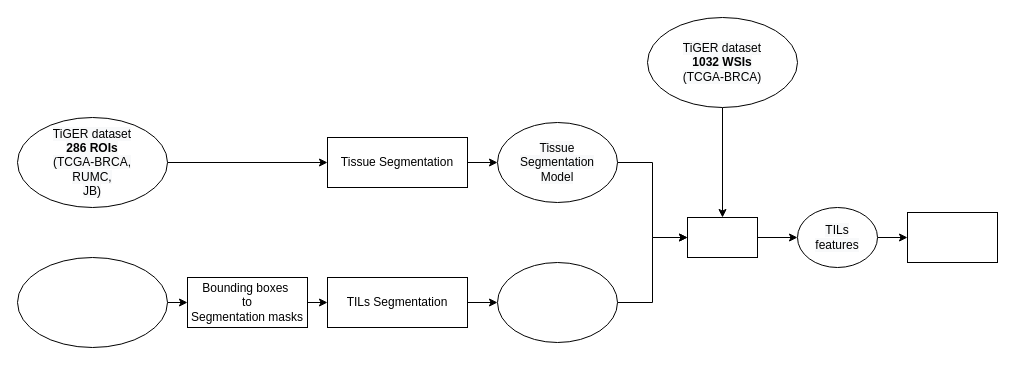
The diagram is 1015 pixels wide and 365 high, and some of its shapes have lost their labels. The centre of each missing label's shape, as x and y in pixels:
"Prediction" belongs at pixel 722 237.
"Survival Analysis" belongs at pixel 952 237.
"TiGER dataset 1879 ROIs (TCGA-BRCA, RUMC, JB)" belongs at pixel 92 302.
"TILs Segmentation Model" belongs at pixel 557 302.
